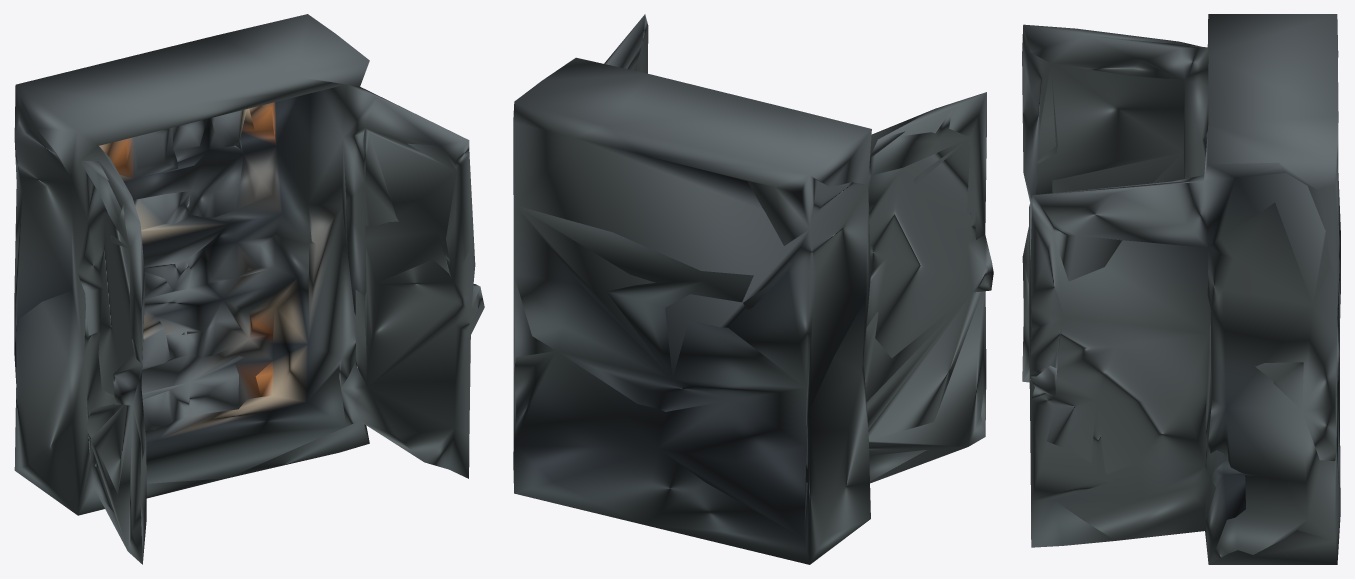
File: gen3d-fuse-box-lod1.glb
The picture shows the model from 3 angles, left to right: view 1: azimuth 30°, elevation 25°; view 2: azimuth 150°, elevation 25°; view 3: azimuth 270°, elevation 25°; orthographic projection. The views are drawn at different scales.
Parts seen in each view (by area): view 1: part_0; view 2: part_0; view 3: part_0.
Part boxes in pixels (left/top/right/bottom): part_0: left=14, top=14, right=484, bottom=564; part_0: left=513, top=14, right=993, bottom=564; part_0: left=1022, top=14, right=1340, bottom=564.
Bounding box in the file's own units: 0.9875 × 0.9983 × 0.713.
